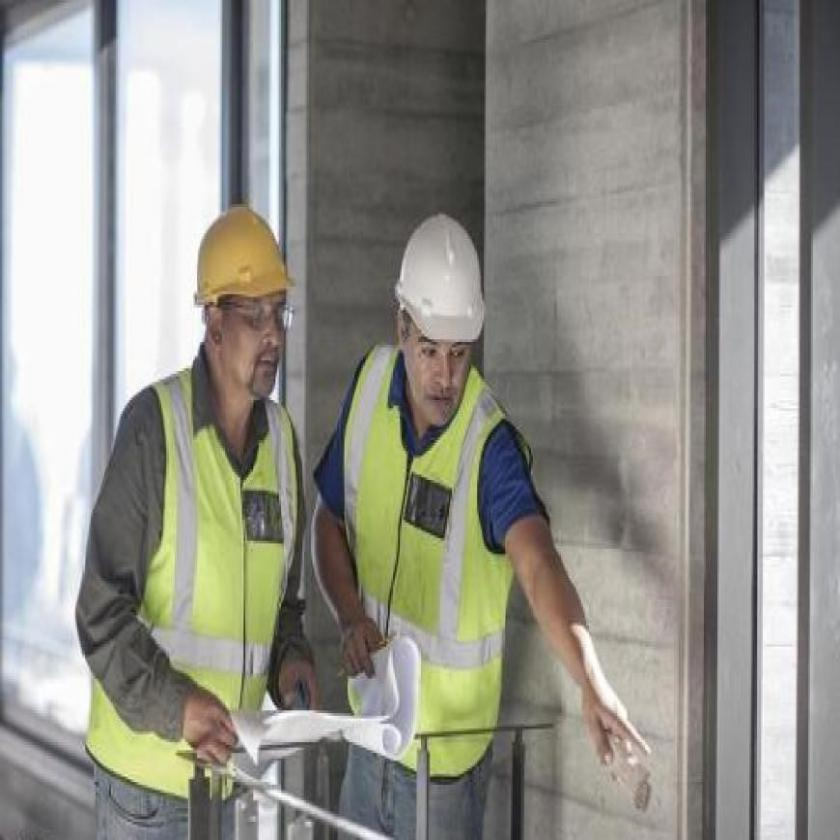Con_casco: (180, 199, 295, 416), (393, 208, 489, 424)
